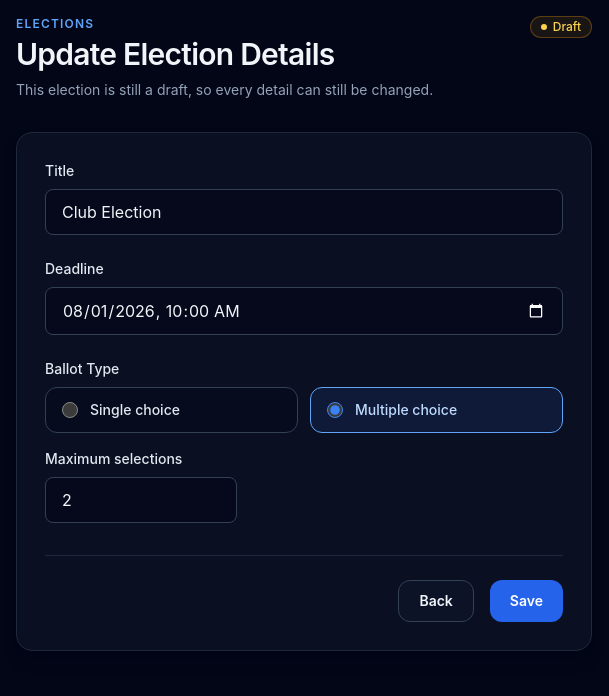
Test: UpdateElection ballot configuration › a draft rejects an invalid max selections inline instead of saving
The image size is (609, 696).
Expected: the heading "Update Election Details" is shown, top-left (16, 36), bottom-right (334, 72)
Replace the text in the number field labelled "Maximum selections" with "0" at (141, 500), box top-left (45, 477), bottom-right (237, 523)
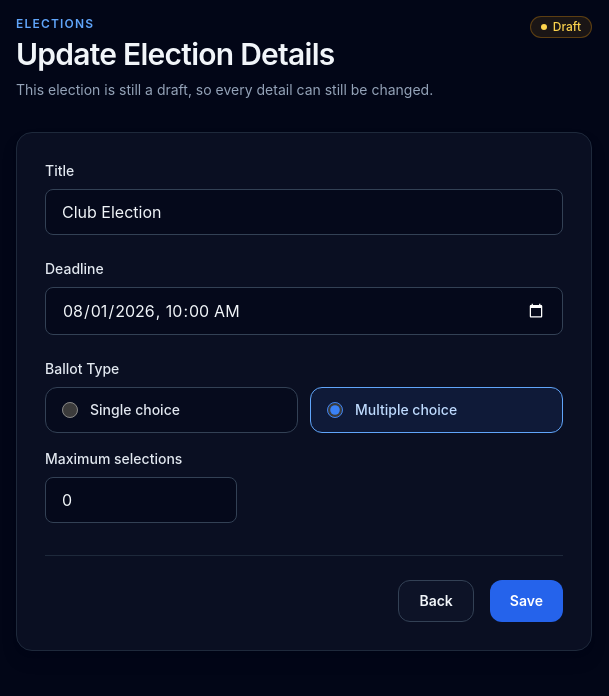
Click the button "Save".
click(526, 601)  # box top-left (490, 580), bottom-right (563, 622)
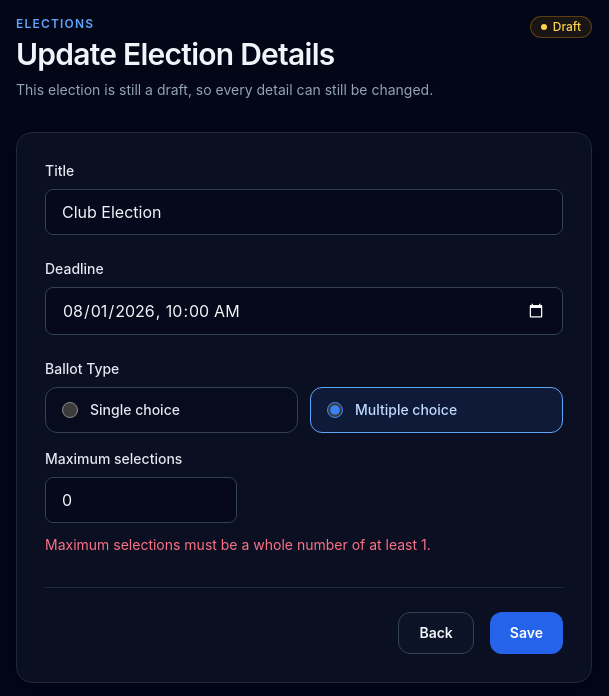
Expected: the message reads "Maximum selections must be a whole number of at least 1.", top-left (45, 536), bottom-right (431, 553)
